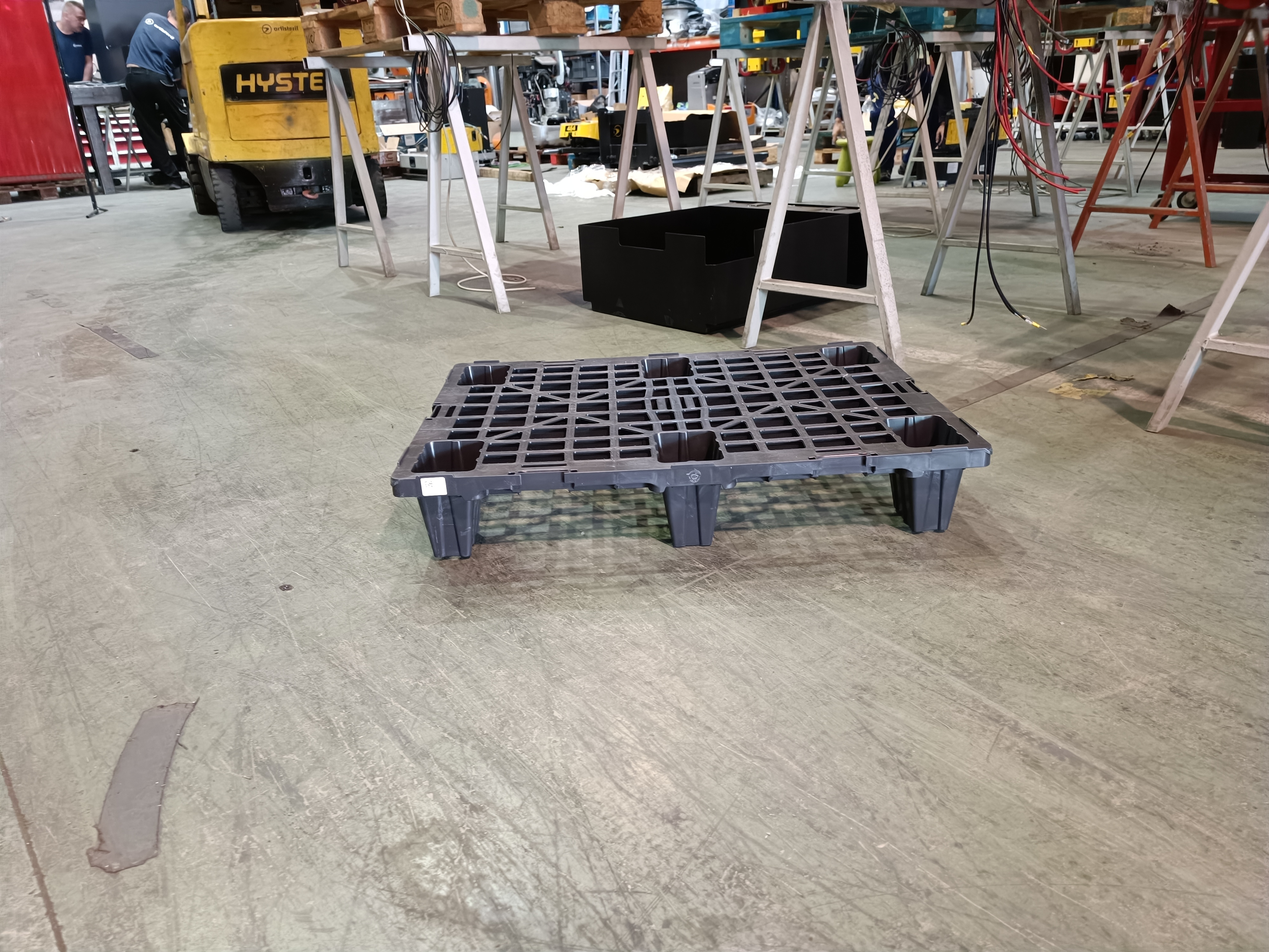block: (390, 479, 482, 570), (892, 459, 971, 532), (665, 462, 722, 551)
front: (387, 447, 1000, 576)
hole pallet: (476, 487, 678, 556), (719, 475, 905, 543)
